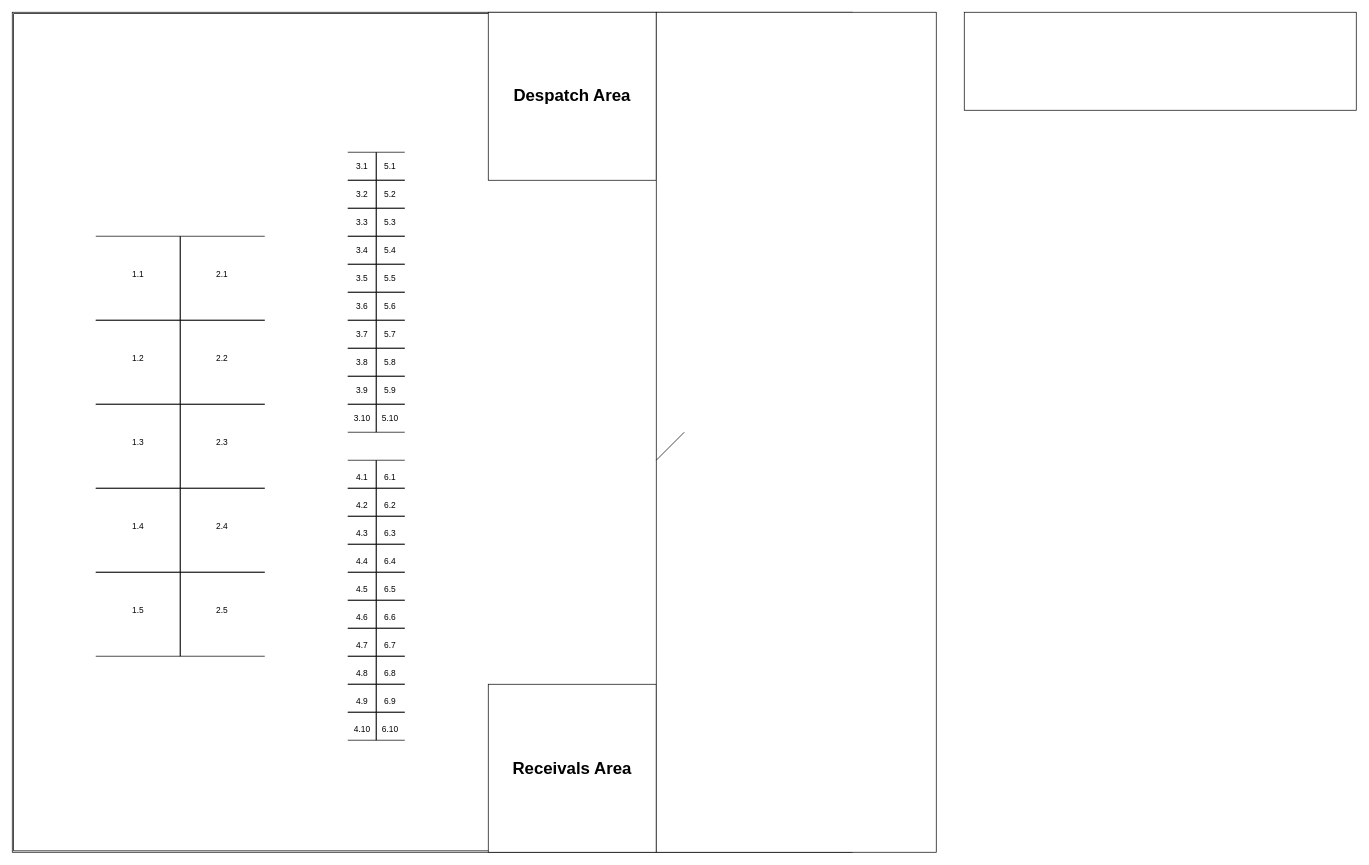
Some shapes in this 1369 by 865 pixel diagram are drawn without their labels. The shapes that lost their labels are listed below. From the top down, each one's box as (x1, y1, x2, y2) in pixels, then its label:
(964, 12, 1356, 110): Legend: each 4x4 square represents 0.5m
(656, 12, 936, 852): Office Area
